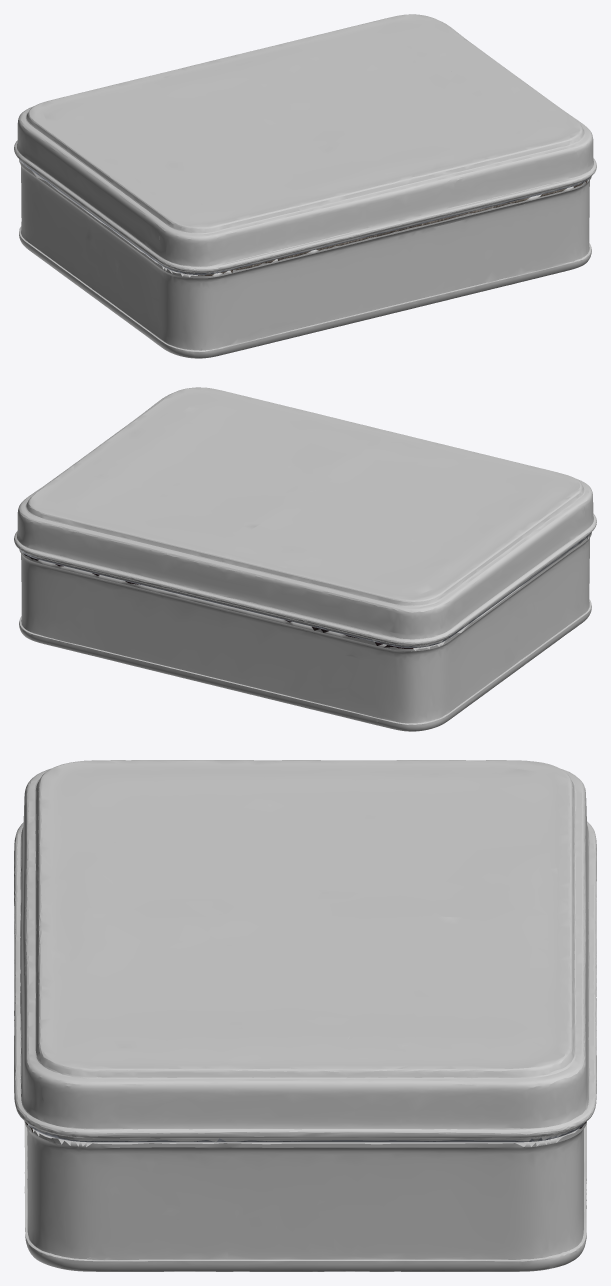
File: caixa-baralho-nerdcast.obj
The picture shows the model from 3 angles, top to bottom: view 1: azimuth 30°, elevation 25°; view 2: azimuth 150°, elevation 25°; view 3: azimuth 270°, elevation 25°; orthographic projection. The views are drawn at different scales.
Visible parts, largest first — view 1: lid, box; view 2: lid, box; view 3: lid, box.
Part boxes in pixels (box(x1,y1,x2,y2)): lid: box(14, 14, 596, 274); box: box(19, 159, 591, 358); lid: box(14, 387, 596, 647); box: box(19, 532, 591, 731); lid: box(14, 760, 596, 1142); box: box(24, 1121, 586, 1271).
Size of the model in its own units: 1.9 by 0.5398 by 1.42.
